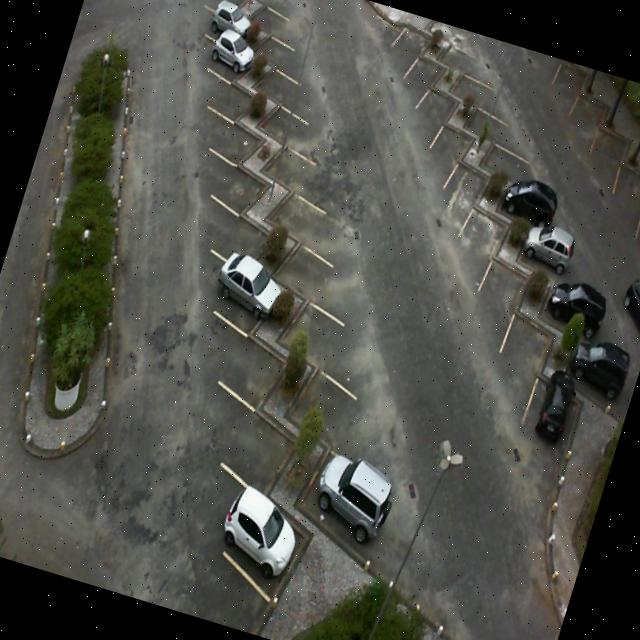empty: (215, 378, 318, 488), (276, 354, 370, 454), (212, 305, 304, 405), (282, 286, 363, 372), (271, 223, 354, 304), (269, 175, 346, 248), (209, 192, 284, 266), (212, 141, 285, 215), (473, 246, 534, 332), (496, 300, 557, 382), (266, 127, 338, 196), (254, 47, 324, 112), (452, 200, 512, 274), (205, 98, 273, 162), (434, 150, 494, 222), (204, 56, 266, 120), (383, 12, 438, 82), (422, 115, 476, 186), (264, 92, 326, 150), (396, 49, 450, 114), (467, 92, 528, 149), (408, 78, 462, 142), (482, 132, 538, 185), (440, 29, 496, 79), (564, 89, 610, 147), (586, 118, 631, 177), (254, 23, 308, 72), (456, 64, 506, 112), (607, 152, 640, 222), (244, 0, 299, 41)
occupied: (218, 464, 334, 602), (300, 440, 392, 542), (209, 244, 294, 335), (559, 338, 638, 418), (516, 372, 586, 458), (540, 273, 609, 346), (519, 222, 590, 286), (500, 172, 564, 232), (206, 28, 264, 82), (203, 0, 258, 49)
